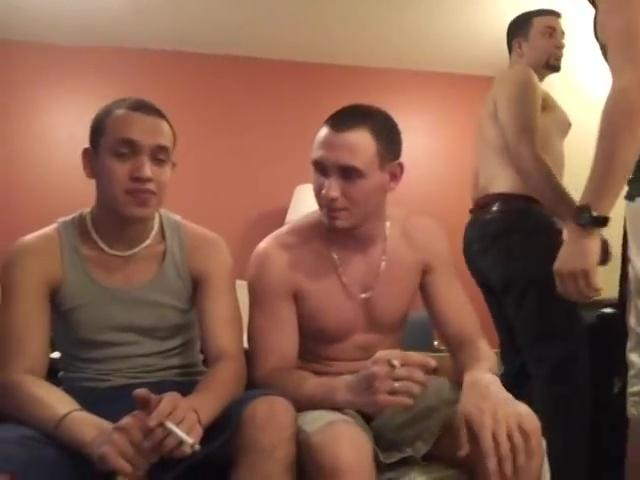cigarette: (163, 419, 203, 456), (386, 355, 406, 372)
